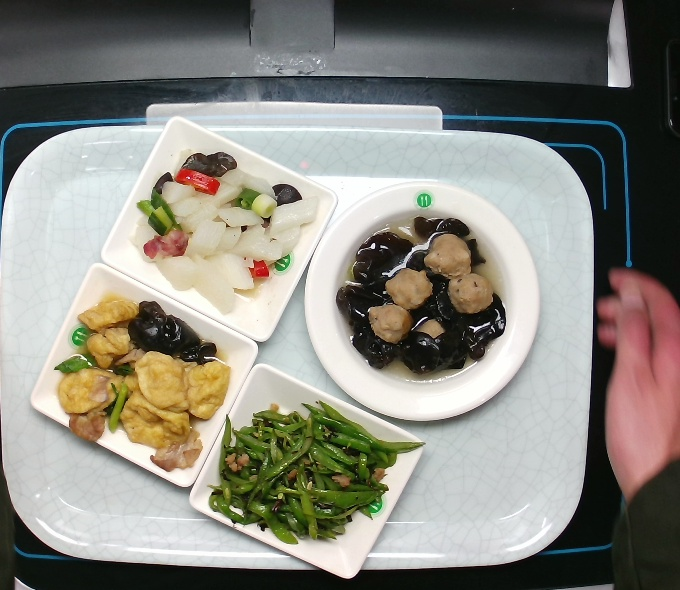wcq-MuErWanZi: (330, 204, 520, 387)
wcq-ShanYao: (120, 143, 320, 309)
wcq-SiJiDouChaoRou: (213, 398, 427, 546)
wcq-YouPaoRouPian: (56, 283, 234, 488)
